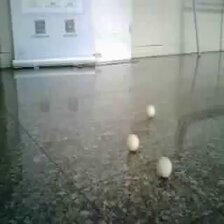tennis: (176, 99, 194, 124), (49, 62, 63, 78), (112, 72, 124, 90), (127, 56, 137, 70)
